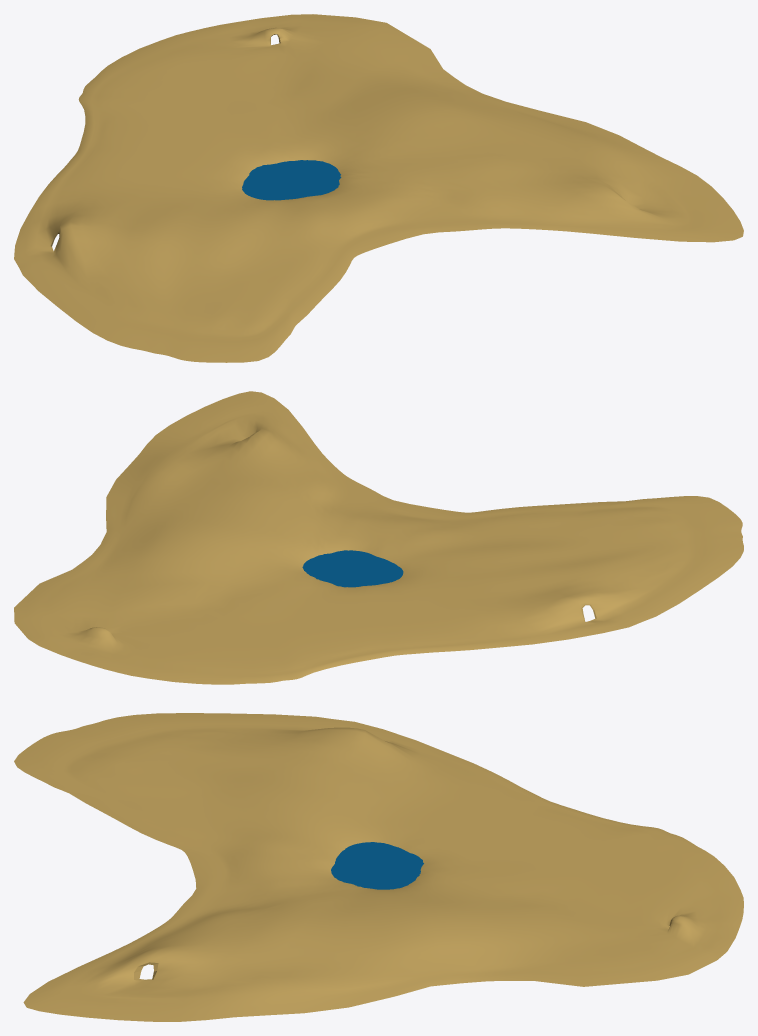
File: map_v02.fbx
The picture shows the model from 3 angles, top to bottom: view 1: azimuth 30°, elevation 25°; view 2: azimuth 150°, elevation 25°; view 3: azimuth 270°, elevation 25°; orthographic projection. The views are drawn at different scales.
Visible parts, largest first — view 1: beach, oasisPond; view 2: beach, oasisPond; view 3: beach, oasisPond.
Boxes of the visible parts, x1=… form: beach: x1=14, y1=14, x2=743, y2=362; oasisPond: x1=242, y1=160, x2=341, y2=200; beach: x1=14, y1=391, x2=743, y2=684; oasisPond: x1=302, y1=550, x2=403, y2=587; beach: x1=14, y1=713, x2=743, y2=1021; oasisPond: x1=331, y1=842, x2=423, y2=889.
Size of what is drawn, in the model's own units: 54.12 by 2.84 by 54.02.
